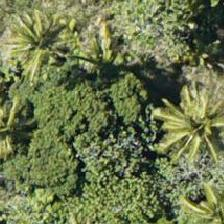coconut_tree: (135, 72, 223, 162), (0, 0, 86, 83), (156, 147, 223, 223)
